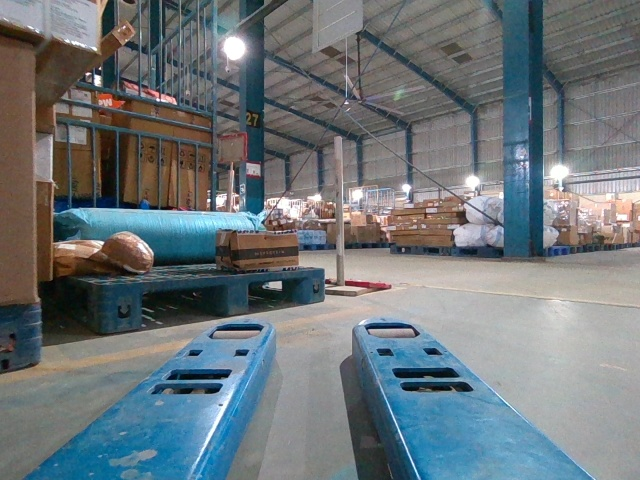pallet: (109, 267, 324, 330)
